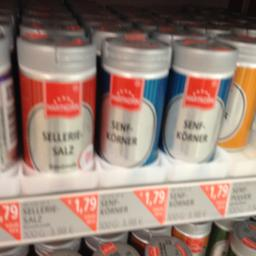spices: (16, 31, 95, 169), (97, 33, 169, 167), (167, 36, 238, 162)
